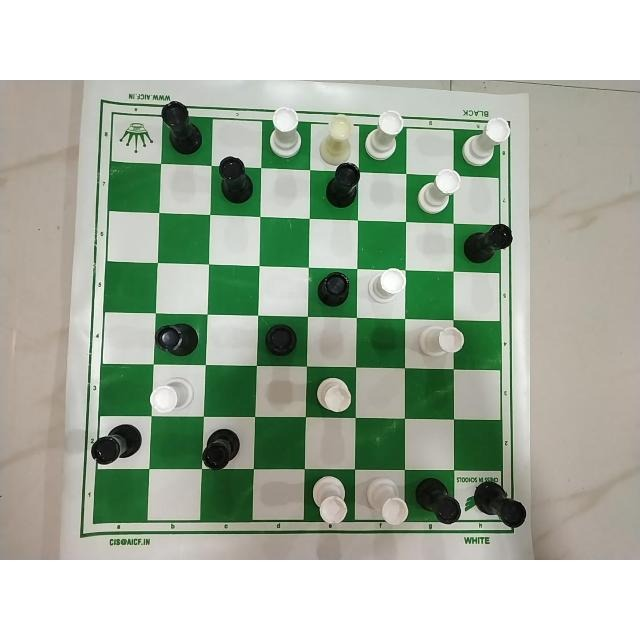black-rook: (155, 101, 207, 159), (470, 481, 528, 529), (413, 475, 465, 527), (91, 424, 145, 471), (461, 221, 515, 265), (200, 425, 244, 474), (217, 154, 257, 205), (323, 160, 365, 208), (153, 321, 197, 359), (263, 319, 301, 359), (316, 270, 352, 311)
white-rook: (460, 112, 512, 168), (362, 472, 410, 526), (266, 105, 306, 165), (307, 471, 349, 526), (414, 167, 462, 215), (318, 105, 356, 164), (364, 109, 404, 165), (416, 322, 468, 358), (313, 374, 355, 416), (365, 266, 409, 306), (149, 377, 195, 414)
